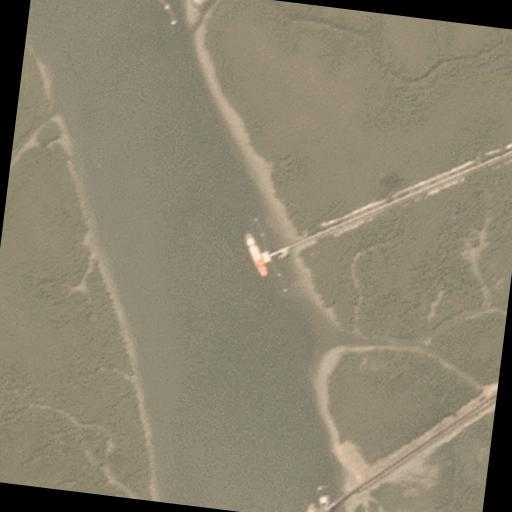ship: (240, 234, 272, 278)
